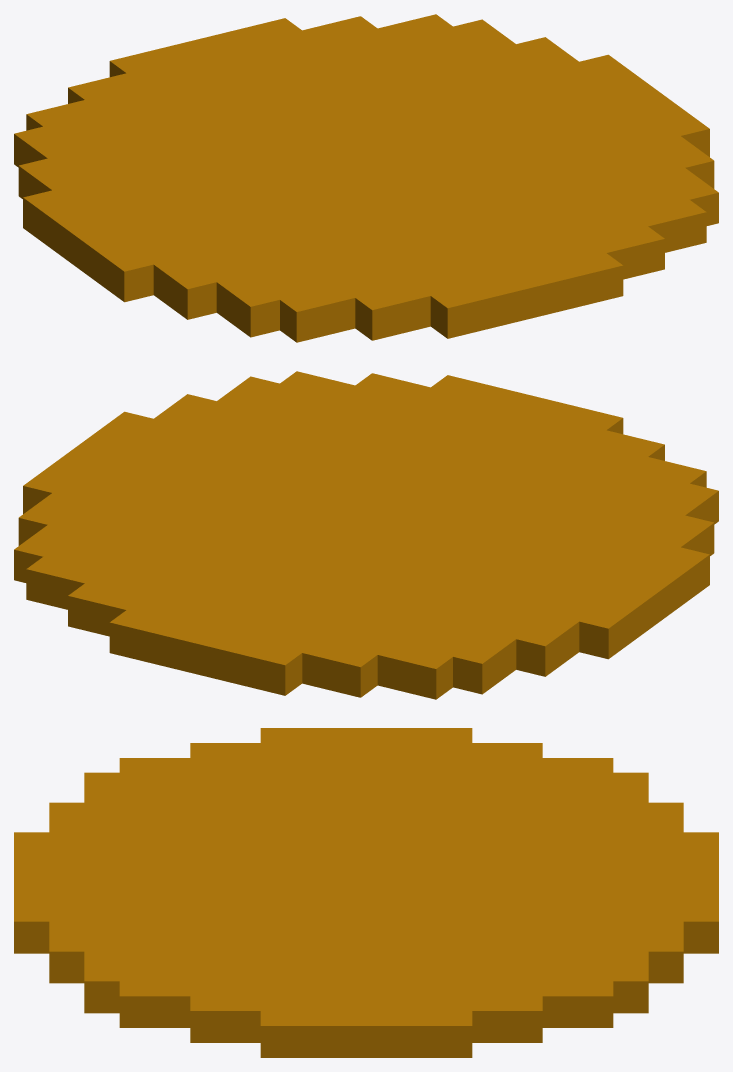
File: blankSpace.obj
3 renders of one model, top to bottom at view 1: azimuth 30°, elevation 25°; view 2: azimuth 150°, elevation 25°; view 3: azimuth 270°, elevation 25°, orthographic. The views are drawn at different scales.
Size of the model in its own units: 2 by 0.1 by 2.
